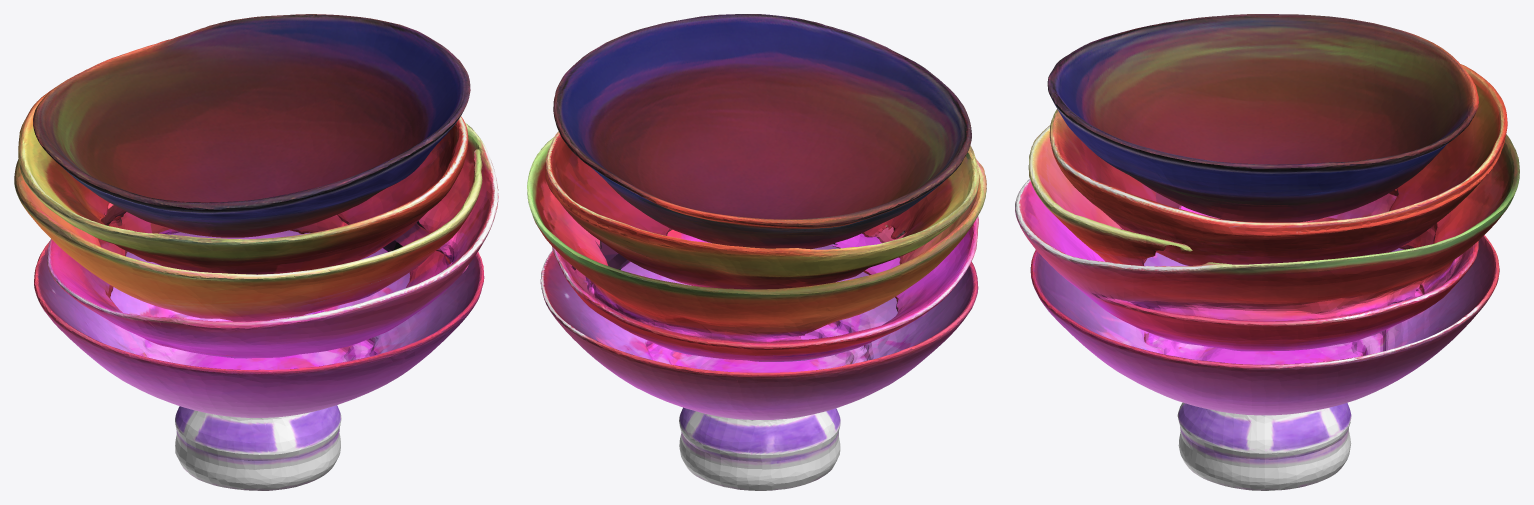
The model's file is stacked_bowls_textured.obj.
3 renders of one model, left to right at view 1: azimuth 30°, elevation 25°; view 2: azimuth 150°, elevation 25°; view 3: azimuth 270°, elevation 25°, orthographic. The views are drawn at different scales.
Visible parts, largest first — view 1: obj1; view 2: obj1; view 3: obj1.
Part boxes in pixels (<box>): obj1: <box>14,14,498,490</box>; obj1: <box>527,14,986,490</box>; obj1: <box>1015,14,1519,490</box>.
Bounding box in the file's own units: 0.7789 × 0.6741 × 0.7978.
1 material, 1 textured.
